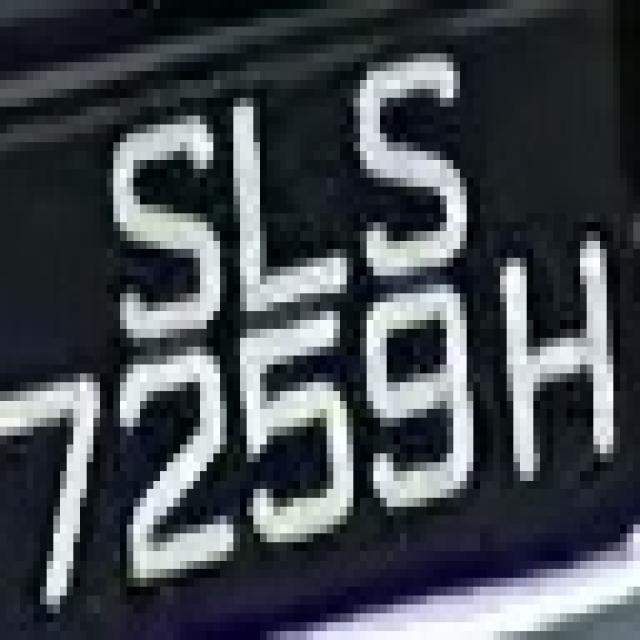2: (100, 347, 247, 596)
5: (213, 285, 360, 551)
7: (7, 347, 106, 613)
9: (347, 258, 473, 516)
H: (480, 204, 627, 489)
L: (213, 71, 367, 311)
S: (340, 27, 473, 293), (80, 106, 220, 338)
